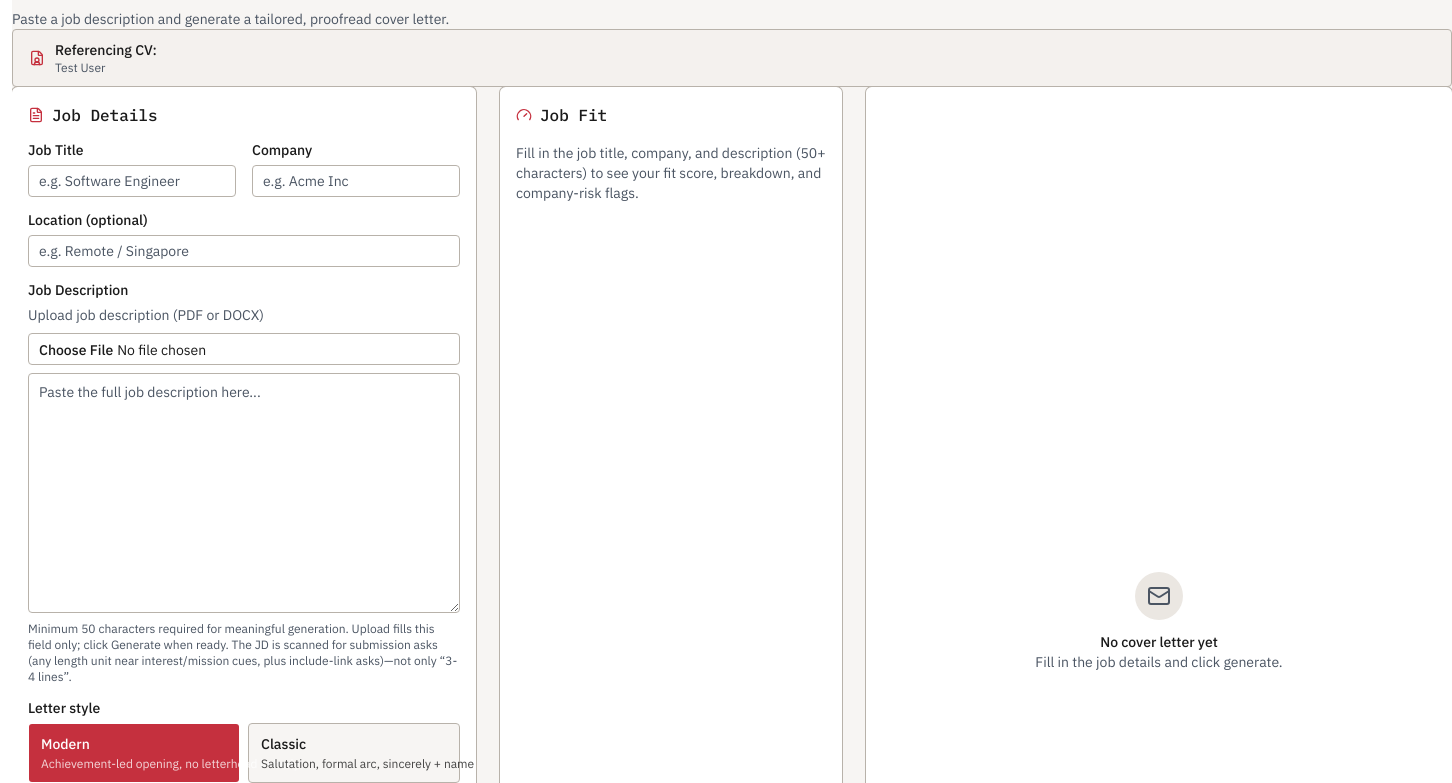
CoverLetterPage › shows a single Sources card when one mission citation is present
The image size is (1452, 783).
In the field labelled "Job Title": (132, 181) [28, 165, 236, 197], type "Engineer"
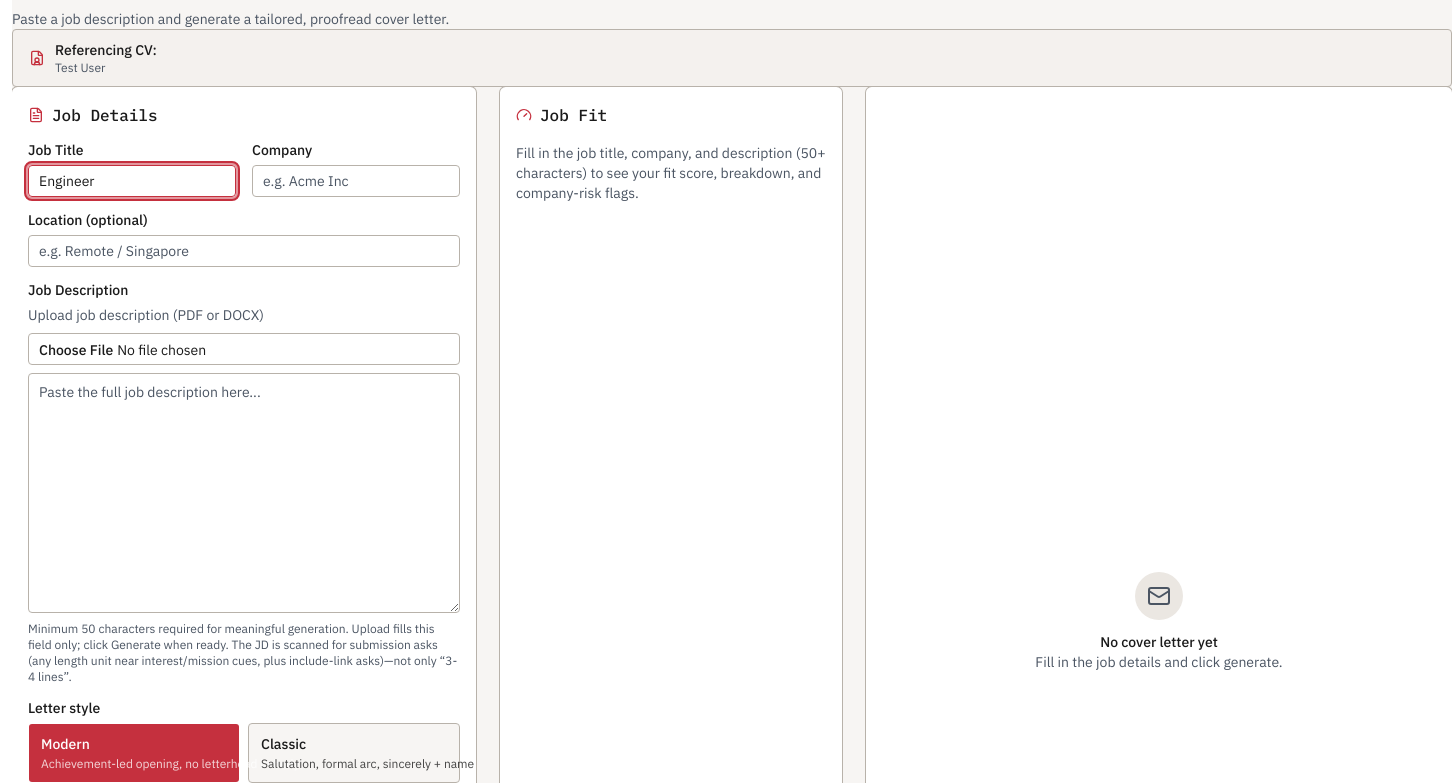
In the field labelled "Company": (356, 181) [252, 165, 460, 197], type "Acme"
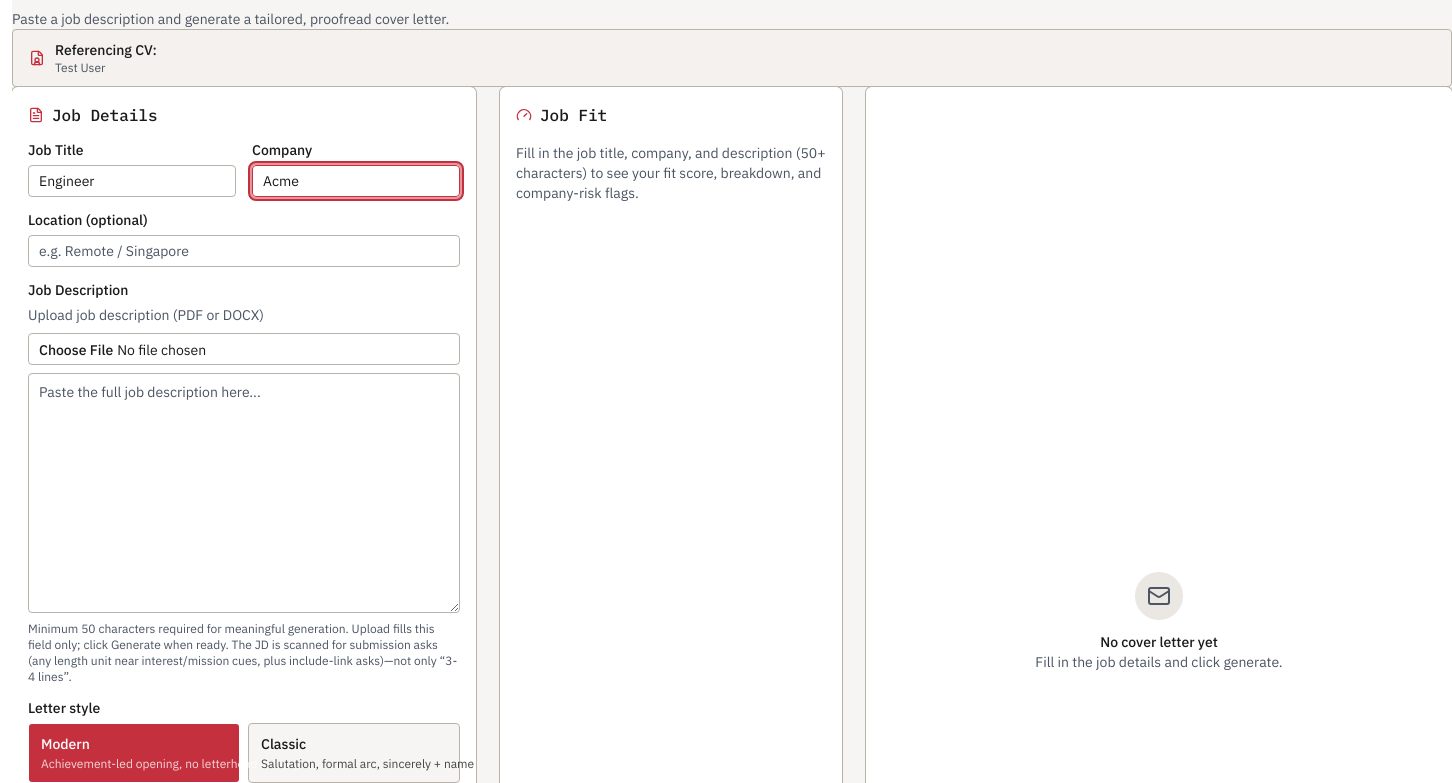
In the text box labelled "Job Description": (244, 493) [28, 373, 460, 613], type "We are seeking an engineer with Python experience for a remote role."
(page scrolled)
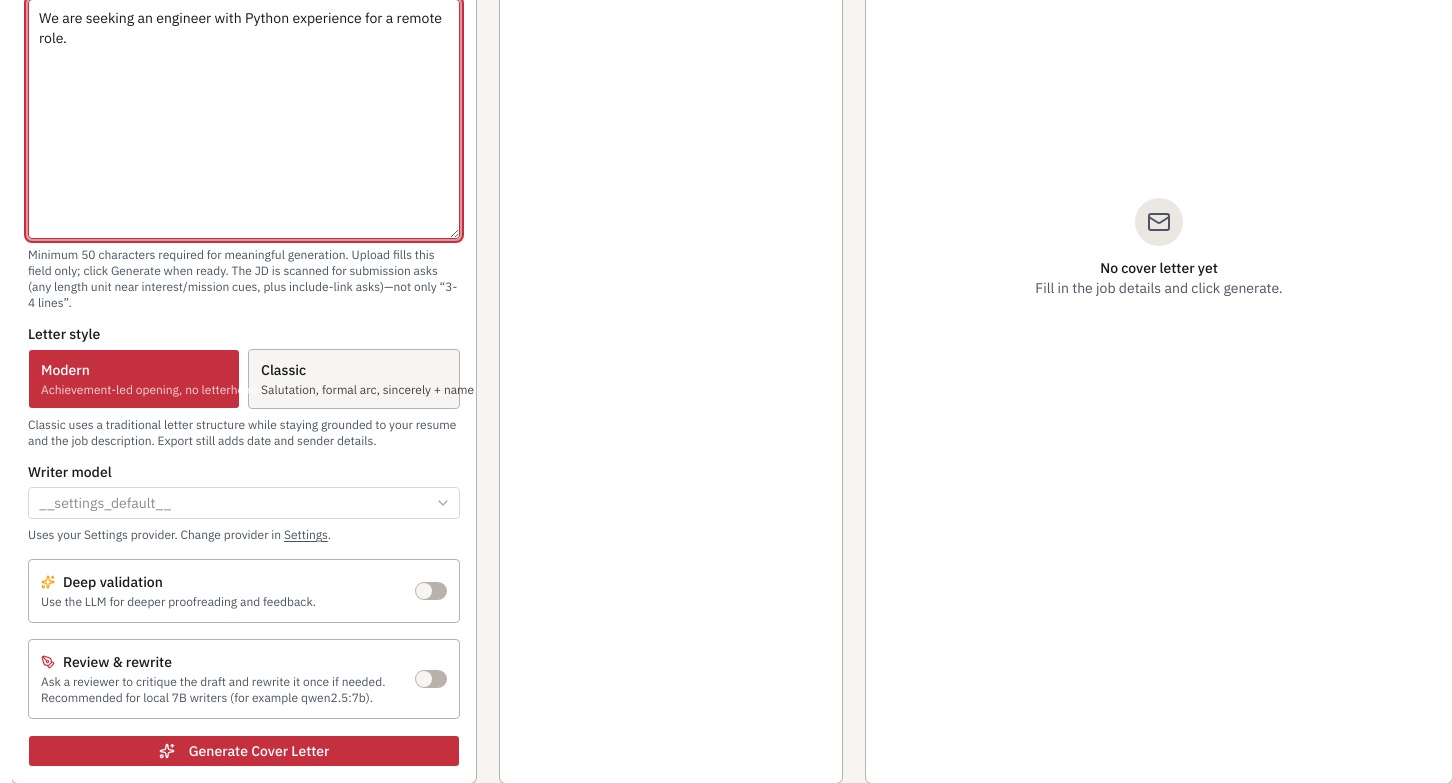
Click the button "Generate Cover Letter": (244, 751) [28, 735, 460, 767]
(page scrolled)
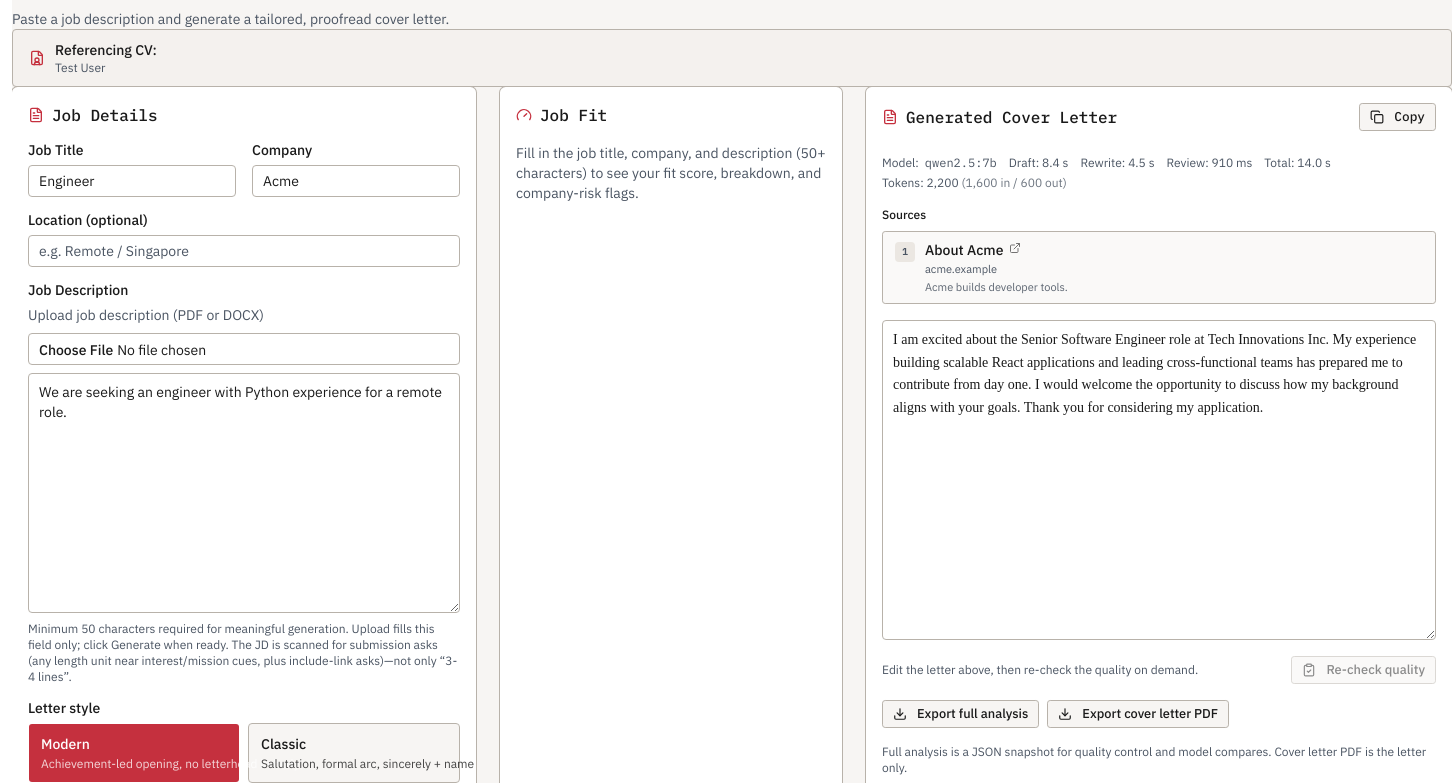
Now the element with test id "cover-letter-sources" is shown, box [882, 207, 1436, 304]
Now the text "Sources" is shown, box [882, 207, 926, 222]
